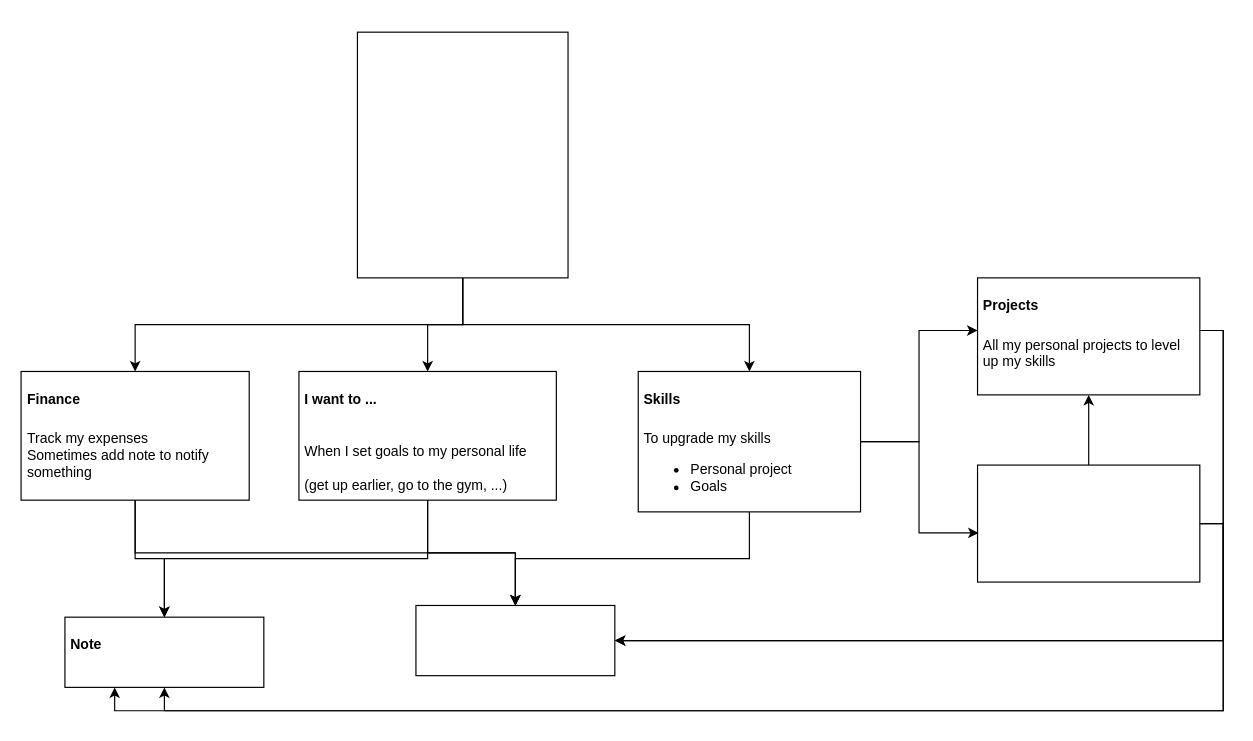
Some shapes in this 1253 by 741 pixel diagram are drawn without their labels. Each missing label, with the box of its shape:
Goals Goals that I want to achieve like I want to master design pattern...: (976, 464, 1200, 582)
Personal To organize my personal life: Financial Life goals Skills: (356, 31, 568, 278)
Tasks: (415, 604, 615, 676)
